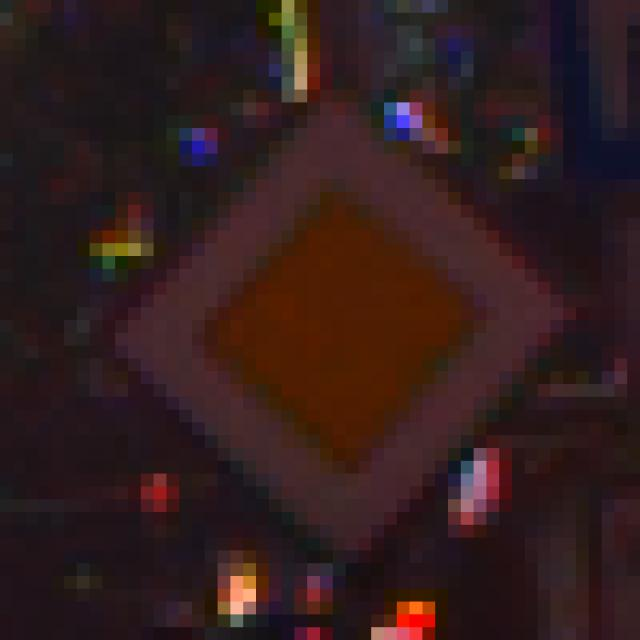Main Road: (78, 65, 577, 564)
